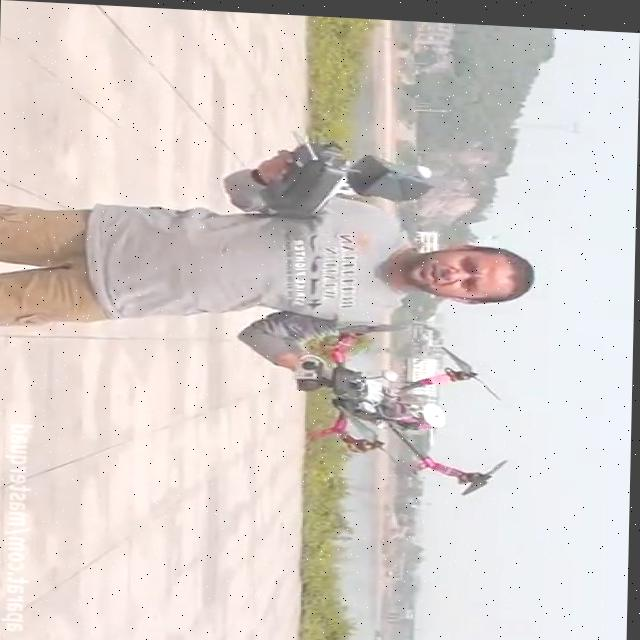drone: (292, 315, 514, 495)
